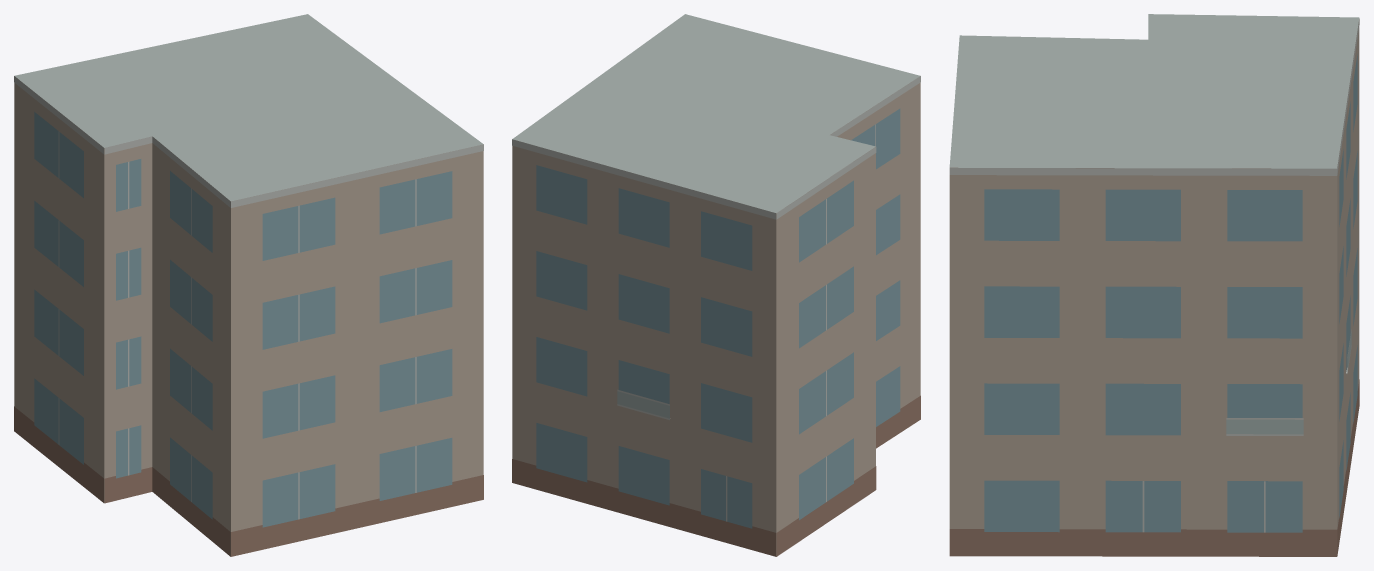
File: survey-upis-32834090.glb
The picture shows the model from 3 angles, left to right: view 1: azimuth 30°, elevation 25°; view 2: azimuth 150°, elevation 25°; view 3: azimuth 270°, elevation 25°; orthographic projection. The views are drawn at different scales.
Parts seen in each view (by area): view 1: survey-upis-32834090.tmp; view 2: survey-upis-32834090.tmp; view 3: survey-upis-32834090.tmp.
Part boxes in pixels (x1,y1,x2,y2): survey-upis-32834090.tmp: (14, 14, 483, 556); survey-upis-32834090.tmp: (512, 14, 920, 556); survey-upis-32834090.tmp: (949, 14, 1359, 556).
Bounding box in the file's own units: 11.14 × 13 × 12.45.
